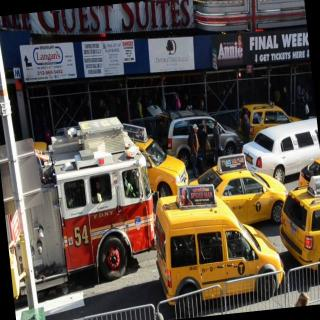Fire_truck: (0, 113, 162, 301)
